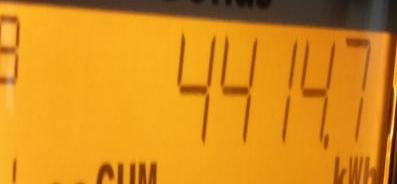.: (330, 152, 381, 184)
0: (322, 133, 332, 151)
2: (282, 38, 297, 141)
5: (175, 30, 216, 147), (219, 32, 256, 144), (301, 41, 338, 144)
8: (340, 37, 376, 143)
